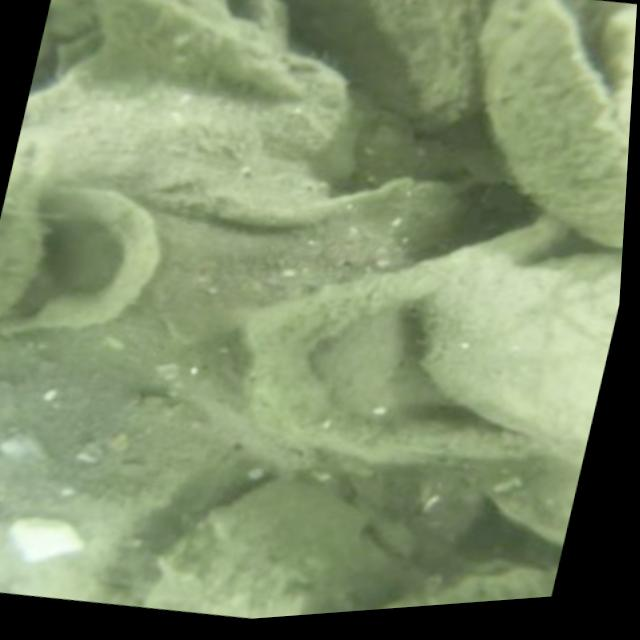Oyster-Indeterminate: (236, 208, 623, 466), (142, 176, 465, 348), (19, 55, 348, 220), (418, 252, 622, 462), (151, 482, 419, 617), (282, 0, 487, 130), (0, 186, 159, 336), (95, 0, 321, 88), (0, 494, 140, 597), (381, 562, 550, 609), (0, 181, 40, 316)
Oyster-Open: (483, 0, 637, 249)
